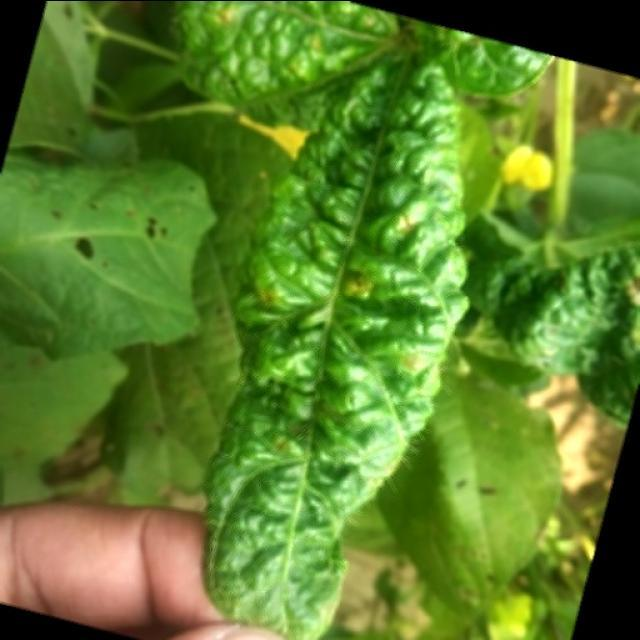leaves: (139, 29, 537, 640)
